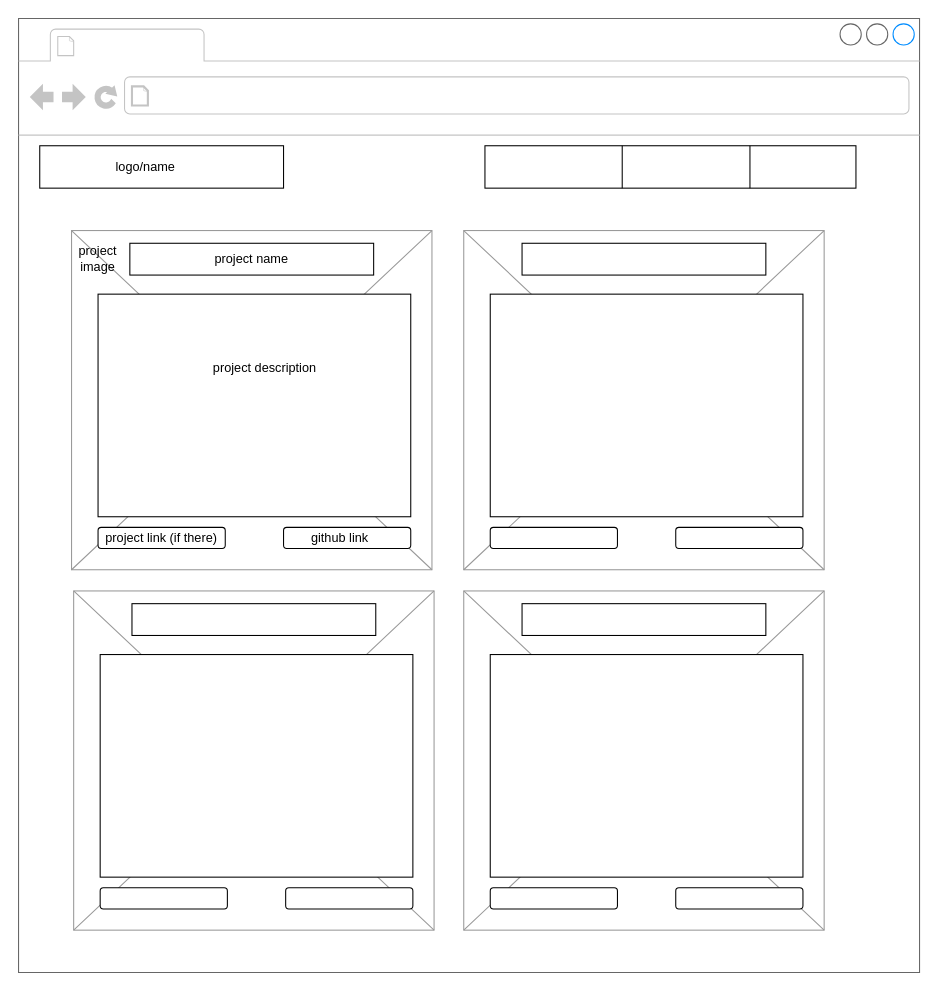
This 938x991 diagram has some shape labels left out. Each missing label, with the box of its shape:
https://www.biniyamgirma.com: (155, 81, 421, 110)
navigations: (484, 145, 856, 188)
projects: (81, 30, 199, 59)
